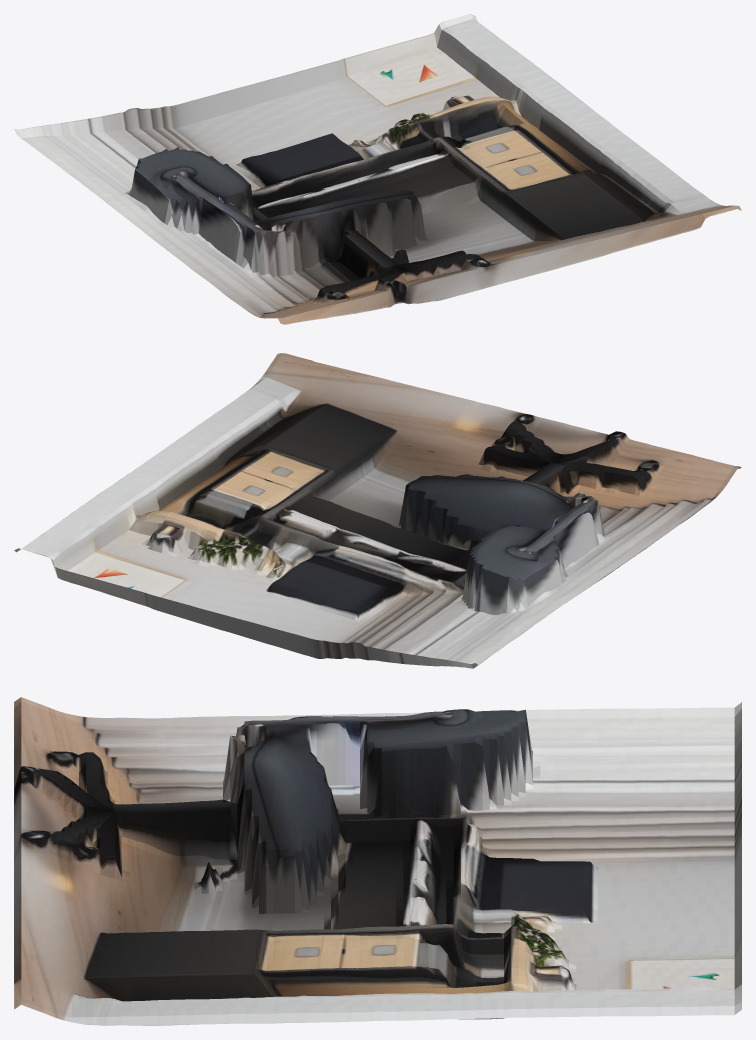
File: Desk_model.fbx
3 renders of one model, top to bottom at view 1: azimuth 30°, elevation 25°; view 2: azimuth 150°, elevation 25°; view 3: azimuth 270°, elevation 25°, orthographic. The views are drawn at different scales.
Parts seen in each view (by area): view 1: Relief_2_5D; view 2: Relief_2_5D; view 3: Relief_2_5D.
Part boxes in pixels (x1,y1,x2,y2): Relief_2_5D: (14, 14, 741, 324); Relief_2_5D: (14, 353, 741, 668); Relief_2_5D: (14, 697, 741, 1025).
Size of the model in its own units: 2 by 0.2684 by 2.
Materials: 1 (1 with a texture image).
